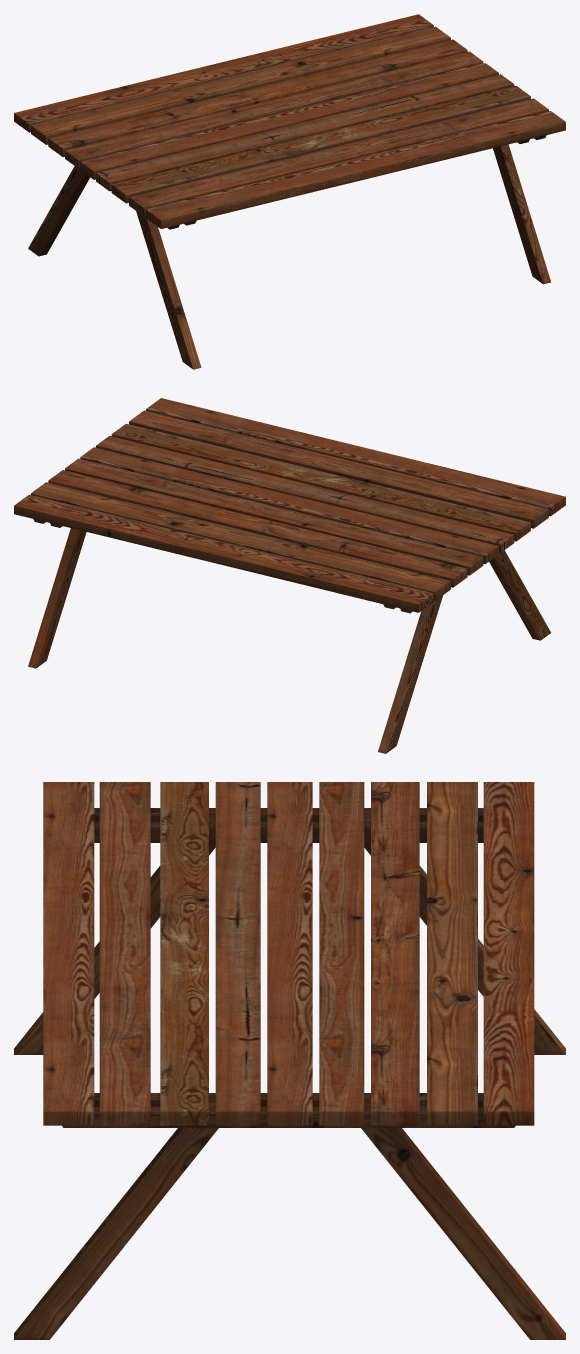
File: table.fbx
The picture shows the model from 3 angles, top to bottom: view 1: azimuth 30°, elevation 25°; view 2: azimuth 150°, elevation 25°; view 3: azimuth 270°, elevation 25°; orthographic projection. The views are drawn at different scales.
Visible parts, largest first — view 1: table_et_banc.003; view 2: table_et_banc.003; view 3: table_et_banc.003.
Boxes of the visible parts, x1=… form: table_et_banc.003: x1=14, y1=14, x2=565, y2=369; table_et_banc.003: x1=14, y1=398, x2=565, y2=753; table_et_banc.003: x1=14, y1=782, x2=565, y2=1339.
Size of the model in its own units: 200 by 70 by 142.
Materials: 1 (1 with a texture image).
